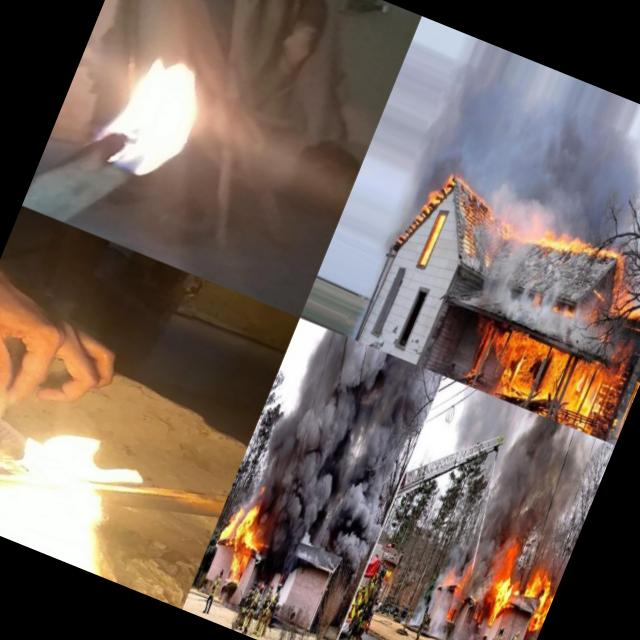fire: (44, 0, 255, 212), (0, 388, 169, 586), (458, 314, 629, 440), (534, 218, 628, 282), (206, 504, 266, 584), (479, 542, 531, 630), (508, 562, 562, 639), (415, 207, 451, 272), (413, 168, 451, 220), (608, 283, 640, 327), (440, 566, 464, 594)
smoke: (242, 324, 448, 560), (417, 90, 620, 229), (456, 411, 560, 604), (472, 260, 627, 364), (516, 425, 600, 548), (450, 386, 530, 457), (473, 186, 548, 240), (248, 518, 305, 578), (408, 574, 442, 628), (323, 546, 364, 588), (422, 588, 454, 636), (449, 614, 496, 640)
